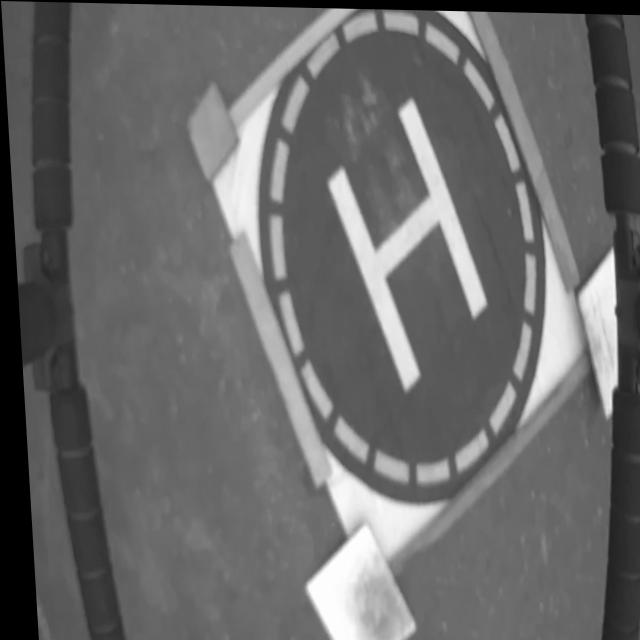Helipad: (323, 91, 482, 389)
